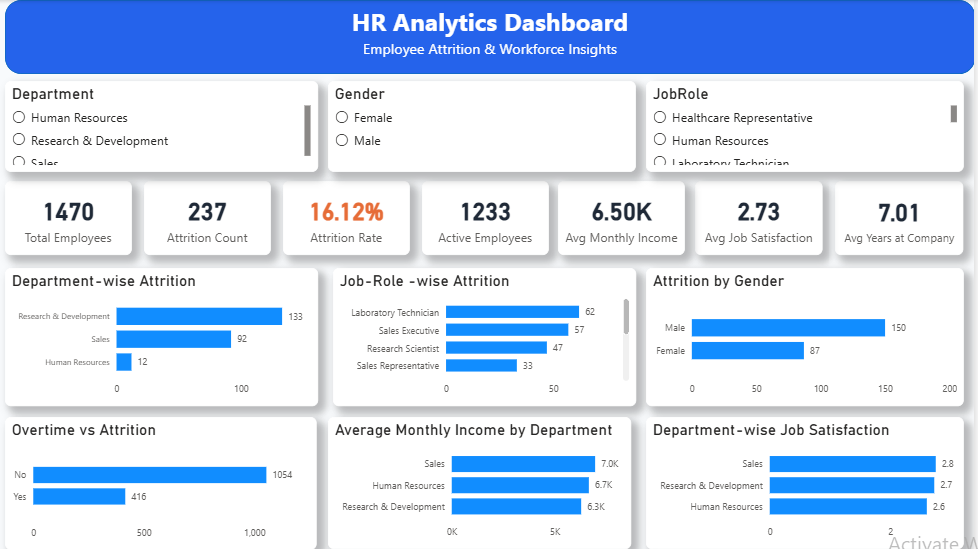

This screenshot's page, from the dashboard's own definition file:
{"tool":"powerbi","page":{"name":"Page 1","canvas":[1280,720],"ordinal":0},"visuals":[{"type":"shape","box":[10,0,1270,97],"z":0},{"type":"textbox","box":[10,0,1270,55.7],"z":1},{"type":"textbox","box":[10,45.7,1270,38.5],"z":2},{"type":"card","fields":{"Values":["WA_Fn-UseC_-HR-Employee-Attrition.Total Employees"]},"box":[10.5,236.9,165.5,97],"z":3},{"type":"card","fields":{"Values":["WA_Fn-UseC_-HR-Employee-Attrition.Average Years at Company"]},"box":[1097,236.9,168.4,97],"z":4},{"type":"card","fields":{"Values":["WA_Fn-UseC_-HR-Employee-Attrition.Average Job Satisfaction"]},"box":[913.7,236.9,167,97],"z":5},{"type":"card","fields":{"Values":["WA_Fn-UseC_-HR-Employee-Attrition.Attrition Count"]},"box":[192.4,236.9,165.5,97],"z":6},{"type":"card","fields":{"Values":["WA_Fn-UseC_-HR-Employee-Attrition.Attrition Rate"]},"box":[374.4,236.9,165.5,97],"z":7},{"type":"card","fields":{"Values":["WA_Fn-UseC_-HR-Employee-Attrition.Active Employees"]},"box":[556.4,236.9,165.5,97],"z":8},{"type":"card","fields":{"Values":["WA_Fn-UseC_-HR-Employee-Attrition.Average Monthly Income"]},"box":[734.4,236.9,166.3,96.9],"z":9},{"type":"barChart","title":"Department-wise Attrition","fields":{"Category":["WA_Fn-UseC_-HR-Employee-Attrition.Department"],"Y":["WA_Fn-UseC_-HR-Employee-Attrition.Attrition Count"]},"box":[10.5,350.8,409.7,180.7],"z":10},{"type":"barChart","title":"Job-Role -wise Attrition","fields":{"Y":["WA_Fn-UseC_-HR-Employee-Attrition.Attrition Count"],"Category":["WA_Fn-UseC_-HR-Employee-Attrition.JobRole"]},"box":[439.9,350.8,396.7,180.7],"z":11},{"type":"barChart","title":" Overtime vs Attrition","fields":{"Category":["WA_Fn-UseC_-HR-Employee-Attrition.OverTime"],"Y":["CountNonNull(WA_Fn-UseC_-HR-Employee-Attrition.Attrition)"]},"box":[10.5,545.9,408.4,174.1],"z":12},{"type":"barChart","title":"Attrition by Gender","fields":{"Y":["WA_Fn-UseC_-HR-Employee-Attrition.Attrition Count"],"Category":["WA_Fn-UseC_-HR-Employee-Attrition.Gender"]},"box":[849.6,350.8,416.3,180.7],"z":13},{"type":"barChart","fields":{"Category":["WA_Fn-UseC_-HR-Employee-Attrition.Department"],"Y":["WA_Fn-UseC_-HR-Employee-Attrition.Average Monthly Income"]},"box":[433.3,545.9,396.7,172.8],"z":14},{"type":"barChart","title":"Department-wise Job Satisfaction","fields":{"Category":["WA_Fn-UseC_-HR-Employee-Attrition.Department"],"Y":["WA_Fn-UseC_-HR-Employee-Attrition.Average Job Satisfaction"]},"box":[849.6,545.9,416.3,172.8],"z":15},{"type":"listSlicer","fields":{"Values":["WA_Fn-UseC_-HR-Employee-Attrition.Department"]},"box":[10.5,106,409.7,119.1],"z":16},{"type":"listSlicer","fields":{"Values":["WA_Fn-UseC_-HR-Employee-Attrition.Gender"]},"box":[433.3,106,403.2,119.1],"z":17},{"type":"listSlicer","fields":{"Values":["WA_Fn-UseC_-HR-Employee-Attrition.JobRole"]},"box":[849.6,106,416.3,119.1],"z":18}]}

Visuals, with their boxes in screenshot pixels (x1, y1, x2, y2), scaled from the page's 1280x720 canvas onto the 978x549 screenshot:
shape: 8/0/977/74
textbox: 8/0/977/42
textbox: 8/35/977/64
card - WA_Fn-UseC_-HR-Employee-Attrition.Total Employees: 8/181/134/255
card - WA_Fn-UseC_-HR-Employee-Attrition.Average Years at Company: 838/181/967/255
card - WA_Fn-UseC_-HR-Employee-Attrition.Average Job Satisfaction: 698/181/826/255
card - WA_Fn-UseC_-HR-Employee-Attrition.Attrition Count: 147/181/273/255
card - WA_Fn-UseC_-HR-Employee-Attrition.Attrition Rate: 286/181/413/255
card - WA_Fn-UseC_-HR-Employee-Attrition.Active Employees: 425/181/552/255
card - WA_Fn-UseC_-HR-Employee-Attrition.Average Monthly Income: 561/181/688/255
"Department-wise Attrition" barChart: 8/267/321/405
"Job-Role -wise Attrition" barChart: 336/267/639/405
" Overtime vs Attrition" barChart: 8/416/320/548
"Attrition by Gender" barChart: 649/267/967/405
barChart - WA_Fn-UseC_-HR-Employee-Attrition.Department x WA_Fn-UseC_-HR-Employee-Attrition.Average Monthly Income: 331/416/634/548
"Department-wise Job Satisfaction" barChart: 649/416/967/548
listSlicer - WA_Fn-UseC_-HR-Employee-Attrition.Department: 8/81/321/172
listSlicer - WA_Fn-UseC_-HR-Employee-Attrition.Gender: 331/81/639/172
listSlicer - WA_Fn-UseC_-HR-Employee-Attrition.JobRole: 649/81/967/172
